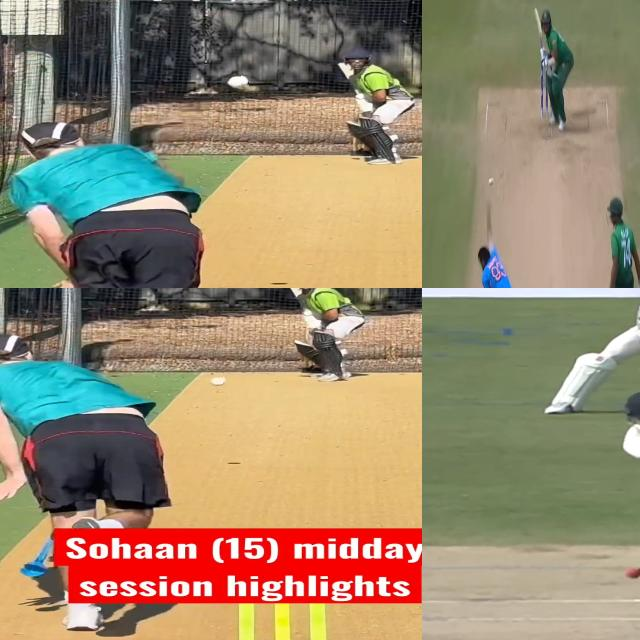Cricket ball: (228, 75, 250, 89), (623, 567, 640, 580), (210, 376, 228, 387), (488, 175, 494, 187)
Stumps: (222, 598, 344, 640)
